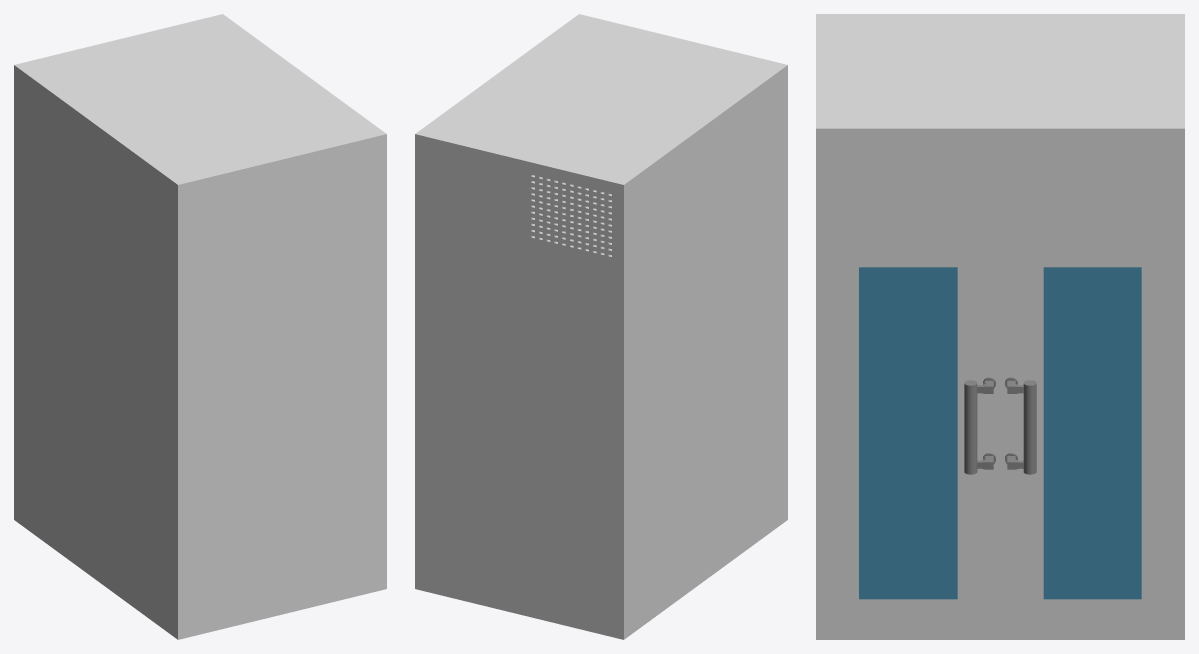
Rendered from cabinet_white.fbx.
The picture shows the model from 3 angles, left to right: view 1: azimuth 30°, elevation 25°; view 2: azimuth 150°, elevation 25°; view 3: azimuth 270°, elevation 25°; orthographic projection. The views are drawn at different scales.
Visible parts, largest first — view 1: Cylinder.001; view 2: Cylinder.001; view 3: Cylinder.001.
Part boxes in pixels (x1,y1,x2,y2): Cylinder.001: (14, 14, 386, 639); Cylinder.001: (415, 14, 787, 639); Cylinder.001: (816, 14, 1184, 639).
Size of the model in its own units: 444 by 860 by 562.
Materials: 1 (1 with a texture image).
